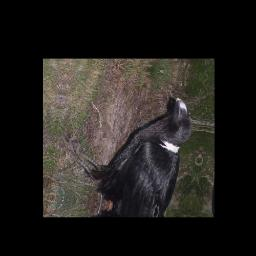Crow: (48, 82, 198, 215)
